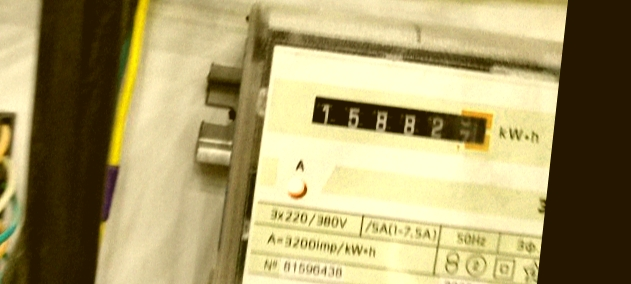1: (315, 101, 331, 124)
2: (425, 115, 444, 140)
5: (343, 104, 359, 130)
7: (455, 125, 469, 143)
8: (398, 112, 415, 137), (371, 109, 386, 133)
screen: (298, 85, 500, 161)
